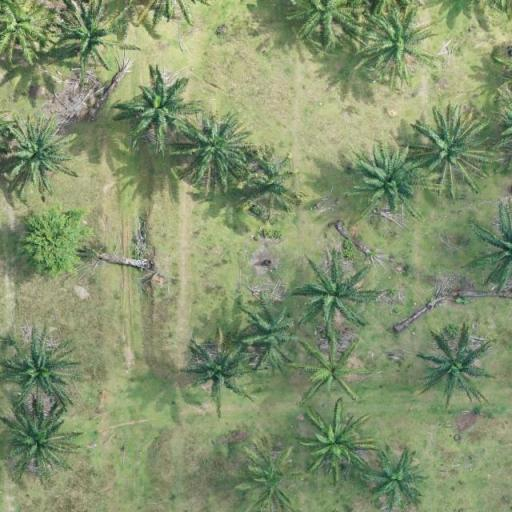Ganoderma: (6, 128, 66, 183), (305, 342, 358, 396), (420, 122, 475, 174), (242, 452, 298, 502), (373, 20, 427, 67), (1, 1, 44, 50)
